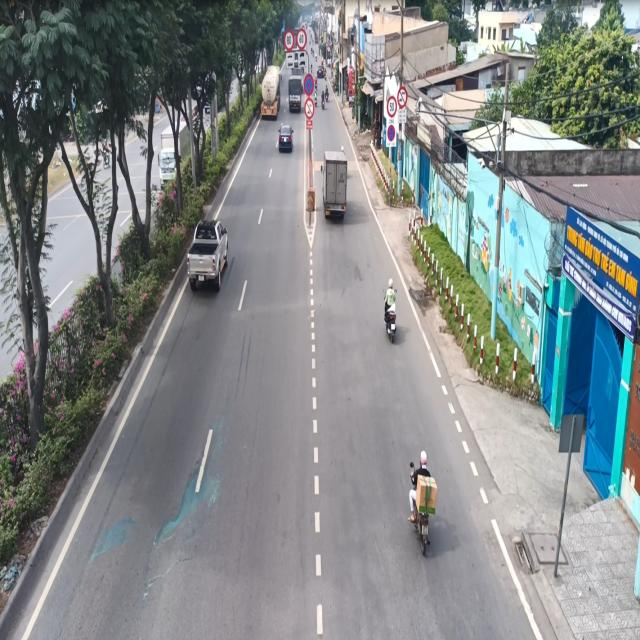car: (183, 208, 236, 294), (277, 117, 294, 160)
motor: (403, 447, 442, 558), (380, 280, 400, 344)
truck: (320, 145, 351, 214)
